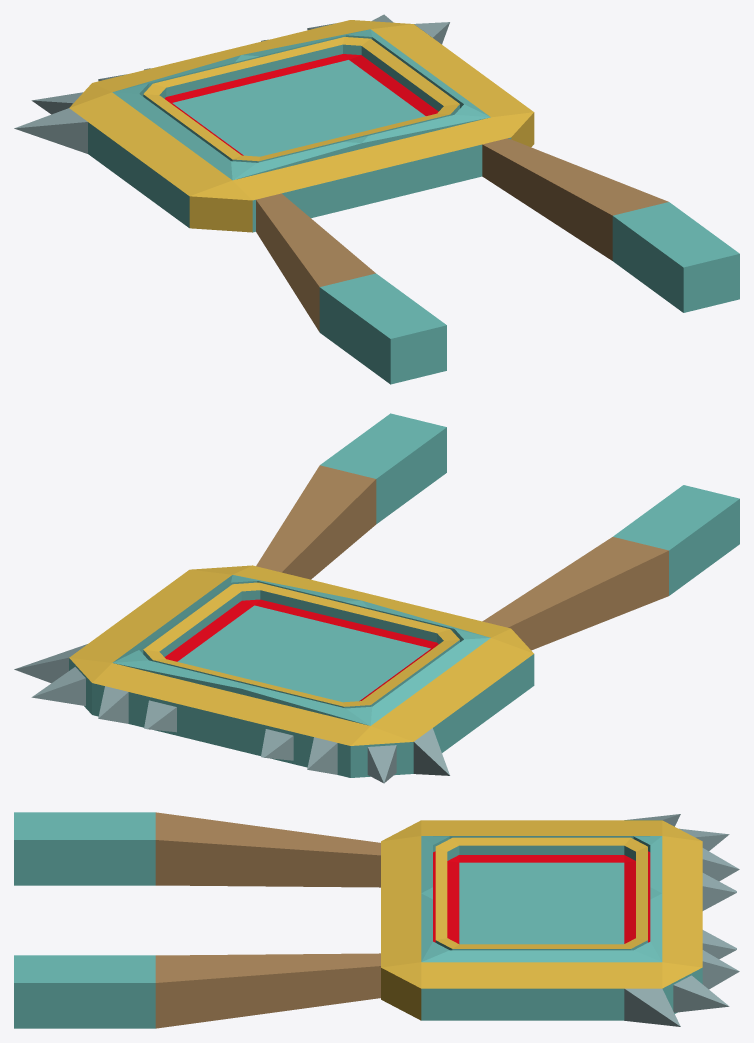
File: HighWall.fbx
3 views of the same model, one above another, from view 1: azimuth 30°, elevation 25°; view 2: azimuth 150°, elevation 25°; view 3: azimuth 270°, elevation 25° (orthographic).
Parts seen in each view (by area): view 1: Cube; view 2: Cube; view 3: Cube.
Part boxes in pixels (x1=…): Cube: x1=14, y1=14, x2=739, y2=384; Cube: x1=14, y1=413, x2=739, y2=783; Cube: x1=14, y1=812, x2=739, y2=1028.
Size of the model in its own units: 638 by 75.78 by 919.
